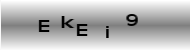9: (126, 12, 139, 27)
E: (38, 18, 51, 33), (76, 22, 89, 37)
i: (105, 23, 110, 39)
k: (60, 13, 76, 29)
